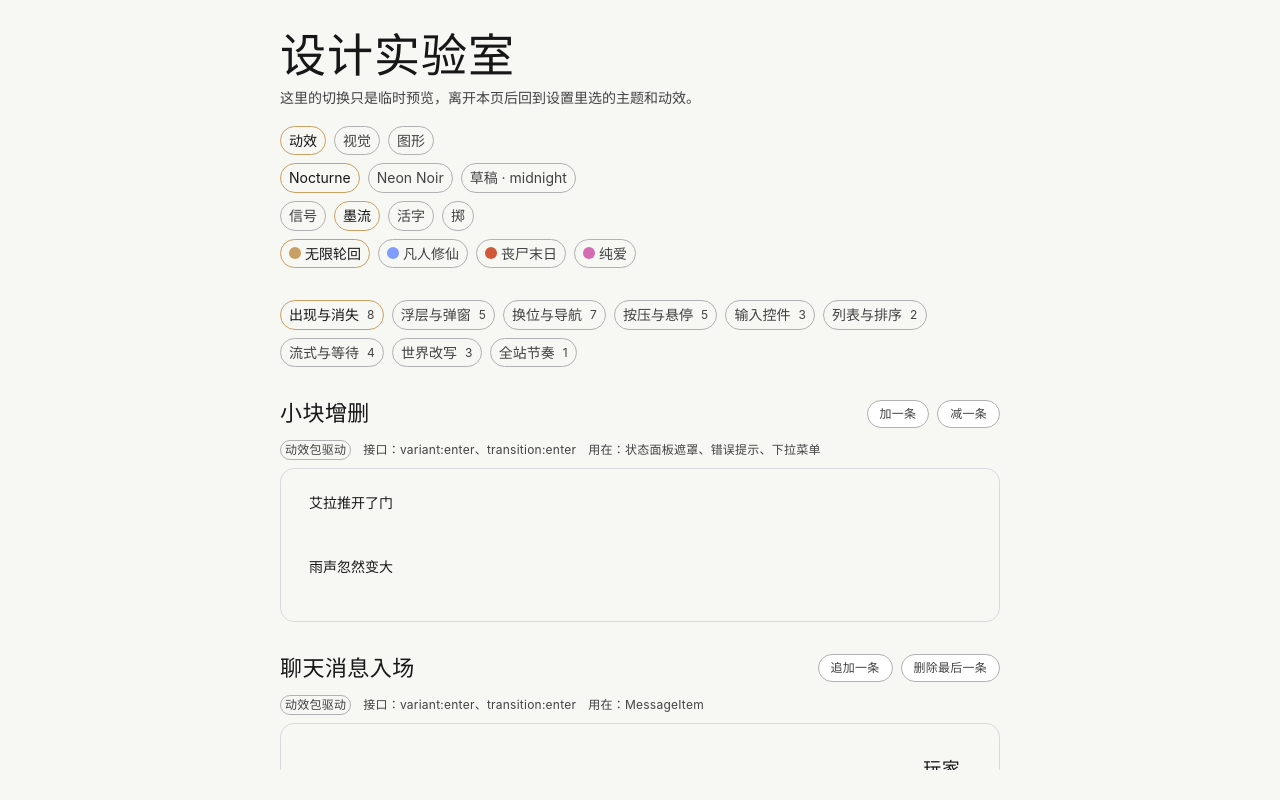
Test: DesignLabPage › 可切到「图形」分页：标识、场景画和图标集，icons.jsx 的每个图标都有展示
Click the button "图形" at (411, 141), box [388,126,434,156]
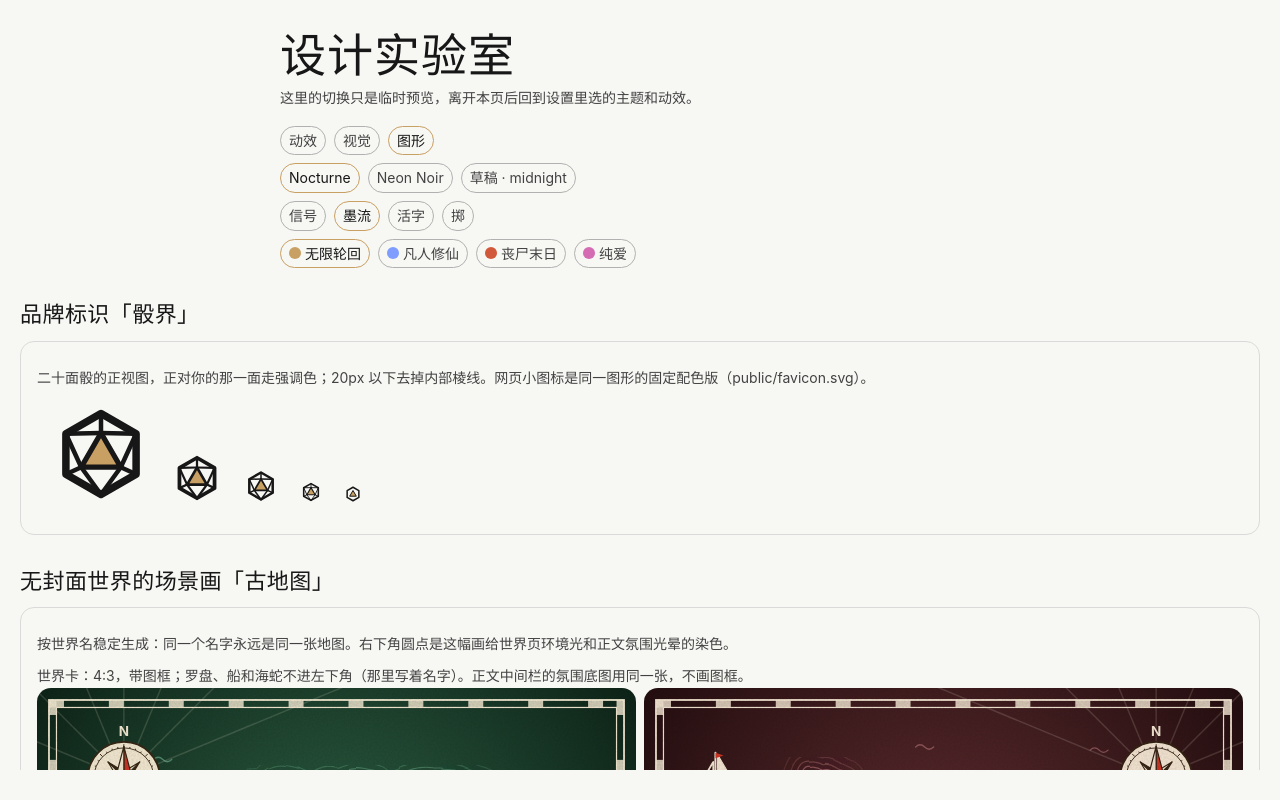
Expected: the button "Neon Noir" is shown, [368,164,453,193]
Expected: the heading "品牌标识「骰界」" is shown, [20,301,200,327]
Expected: the heading "无封面世界的场景画「古地图」" is shown, [20,568,334,594]
